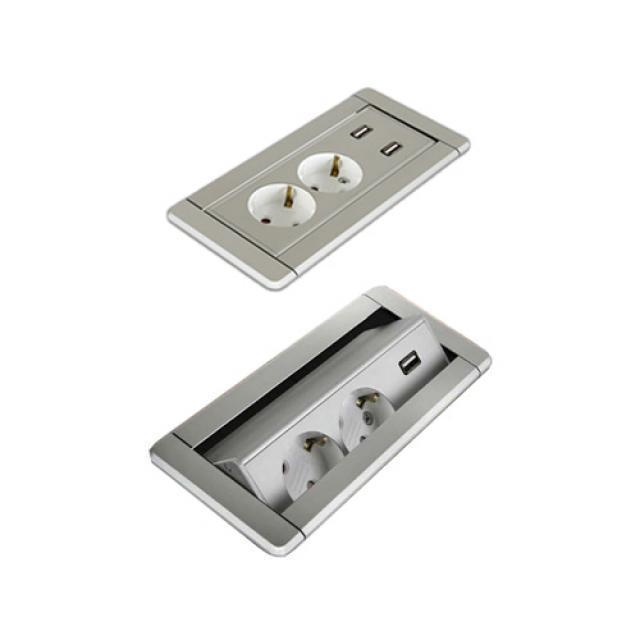typeb: (184, 53, 427, 284)
